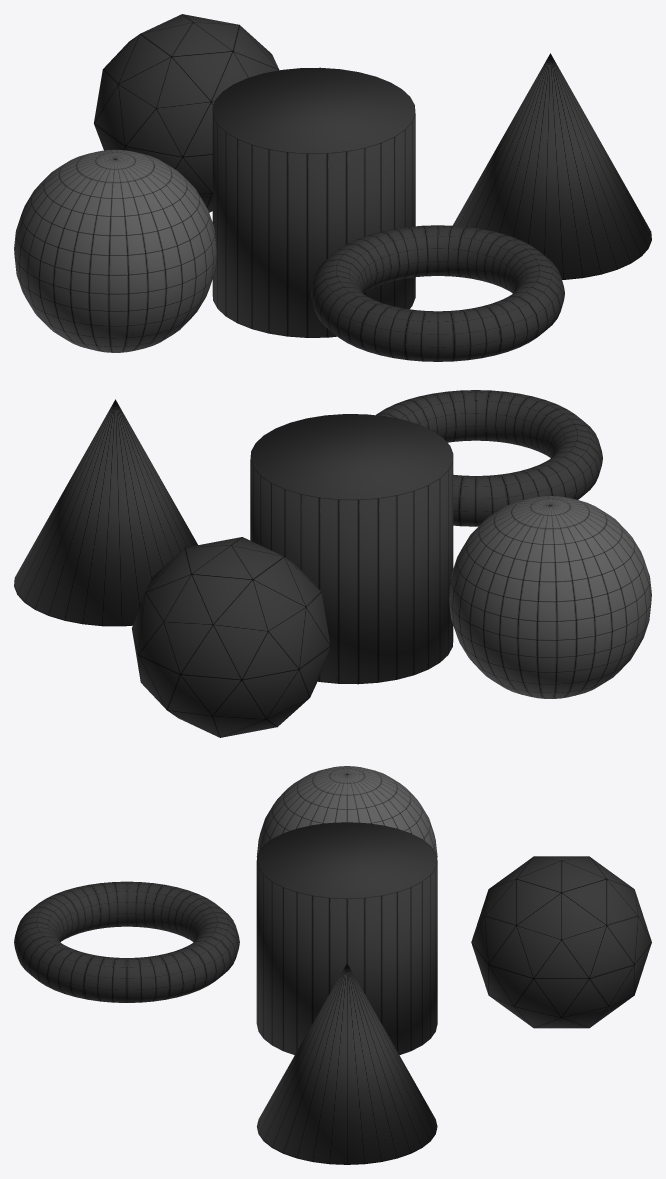
The model's file is testScene.fbx.
The picture shows the model from 3 angles, top to bottom: view 1: azimuth 30°, elevation 25°; view 2: azimuth 150°, elevation 25°; view 3: azimuth 270°, elevation 25°; orthographic projection. The views are drawn at different scales.
Visible parts, largest first — view 1: Cylinder, Sphere, Torus, Cone, Icosphere; view 2: Cylinder, Sphere, Icosphere, Cone, Torus; view 3: Cylinder, Icosphere, Cone, Torus, Sphere.
Part boxes in pixels (x1,y1,x2,y2): Cylinder: (212,67,415,337); Sphere: (14,149,216,352); Torus: (310,225,564,361); Cone: (453,53,651,279); Icosphere: (94,14,279,212); Cylinder: (250,414,453,684); Sphere: (449,496,651,698); Icosphere: (132,537,330,737); Cone: (14,399,197,626); Torus: (376,390,602,526); Cylinder: (256,822,437,1055); Icosphere: (471,856,651,1028); Cone: (257,963,437,1164); Torus: (14,881,239,1002); Sphere: (256,766,437,858).
Size of the model in its own units: 694 by 200 by 706.
